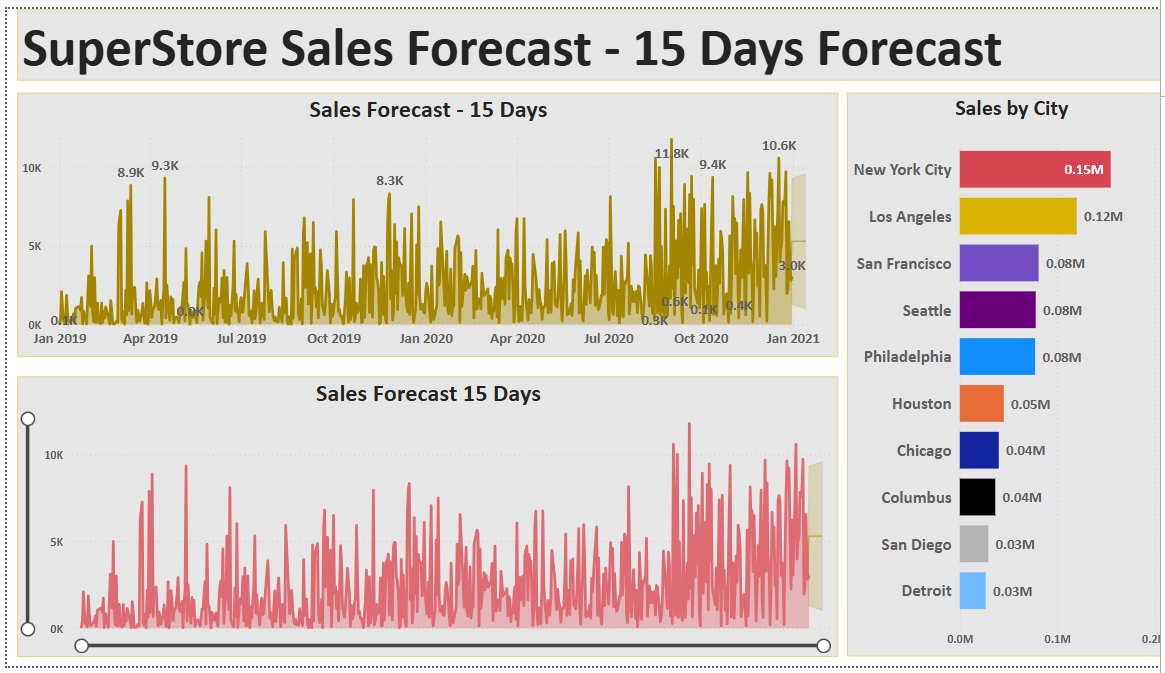

The dashboard page shown, as its layout file describes it:
{"tool":"powerbi","page":{"name":"Forecast","canvas":[1280,720],"ordinal":1},"visuals":[{"type":"lineChart","title":"Sales Forecast - 15 Days","fields":{"Y":["Sum(SuperStore_Sales_Dataset.Sales)"],"Category":["SuperStore_Sales_Dataset.Order Date"]},"box":[11,91.9,900.2,289.5],"z":0},{"type":"lineChart","title":"Sales Forecast 15 Days","fields":{"Y":["Sum(SuperStore_Sales_Dataset.Sales)"],"Category":["SuperStore_Sales_Dataset.Order Date"]},"box":[11,402.1,900.2,307.4],"z":1},{"type":"clusteredBarChart","title":"Sales by City","fields":{"Category":["SuperStore_Sales_Dataset.City"],"Y":["Sum(SuperStore_Sales_Dataset.Sales)"]},"box":[920.8,91.9,359.5,617.5],"z":2},{"type":"textbox","box":[11,0,1269.3,78.2],"z":3}]}

Visuals, with their boxes in screenshot pixels (x1, y1, x2, y2), scaled from the page's 1280x720 canvas onto the 1165x673 screenshot:
"Sales Forecast - 15 Days" lineChart: <region>10, 86, 829, 357</region>
"Sales Forecast 15 Days" lineChart: <region>10, 376, 829, 663</region>
"Sales by City" clusteredBarChart: <region>838, 86, 1164, 663</region>
textbox: <region>10, 0, 1164, 73</region>
